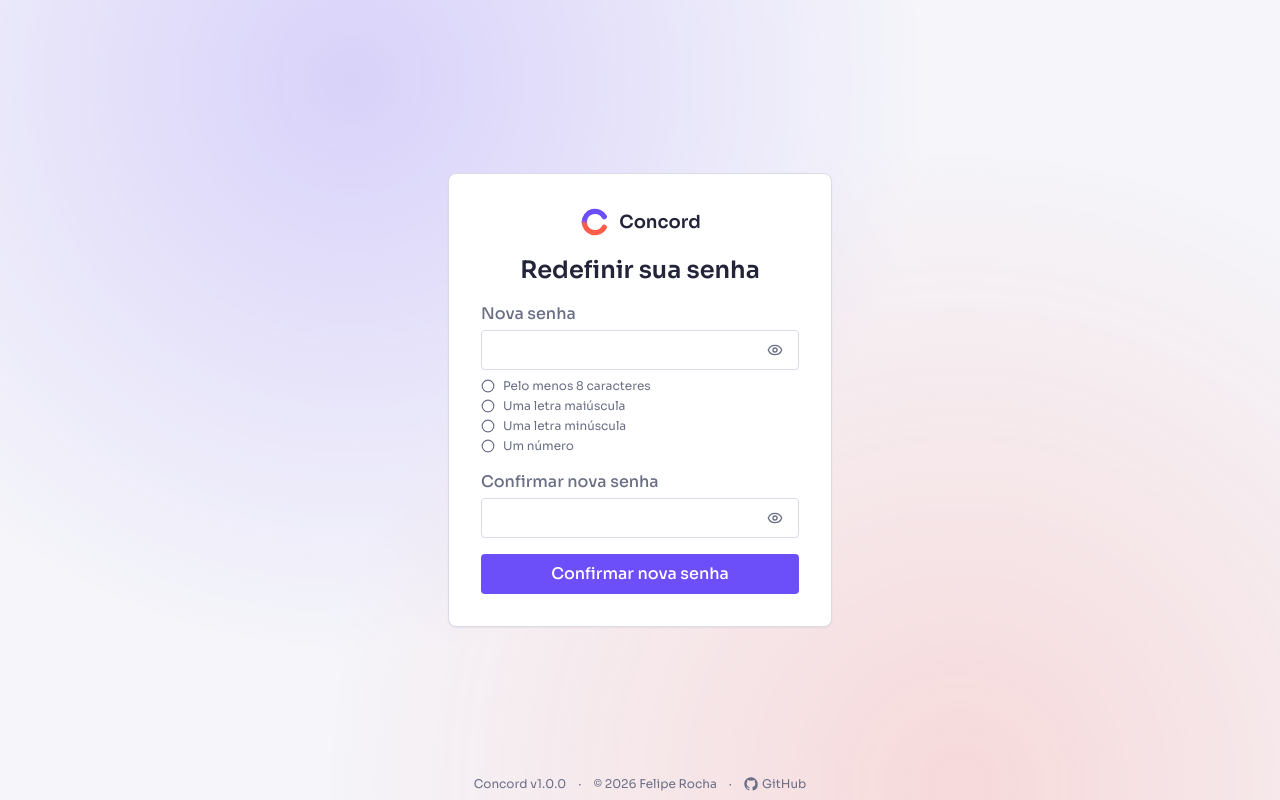
Test: ResetPasswordPage › requires matching passwords before submitting
Expected: the heading "Redefinir sua senha" is shown, [520,255,760,285]
Type "NewPassword1" into the password field labelled "Nova senha" at x=640, y=350, box [481,330,799,370]
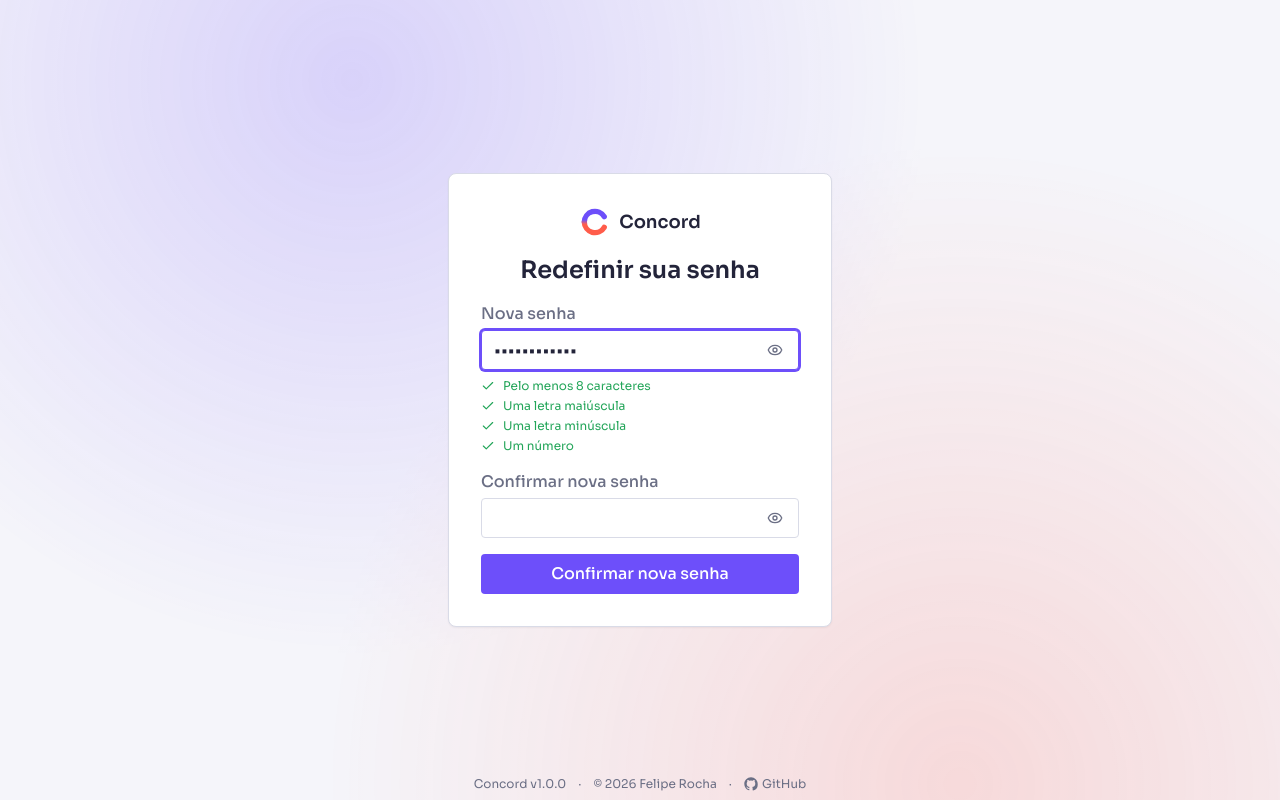
Type "Different1" into the password field labelled "Confirmar nova senha" at x=640, y=518, box [481,498,799,538]
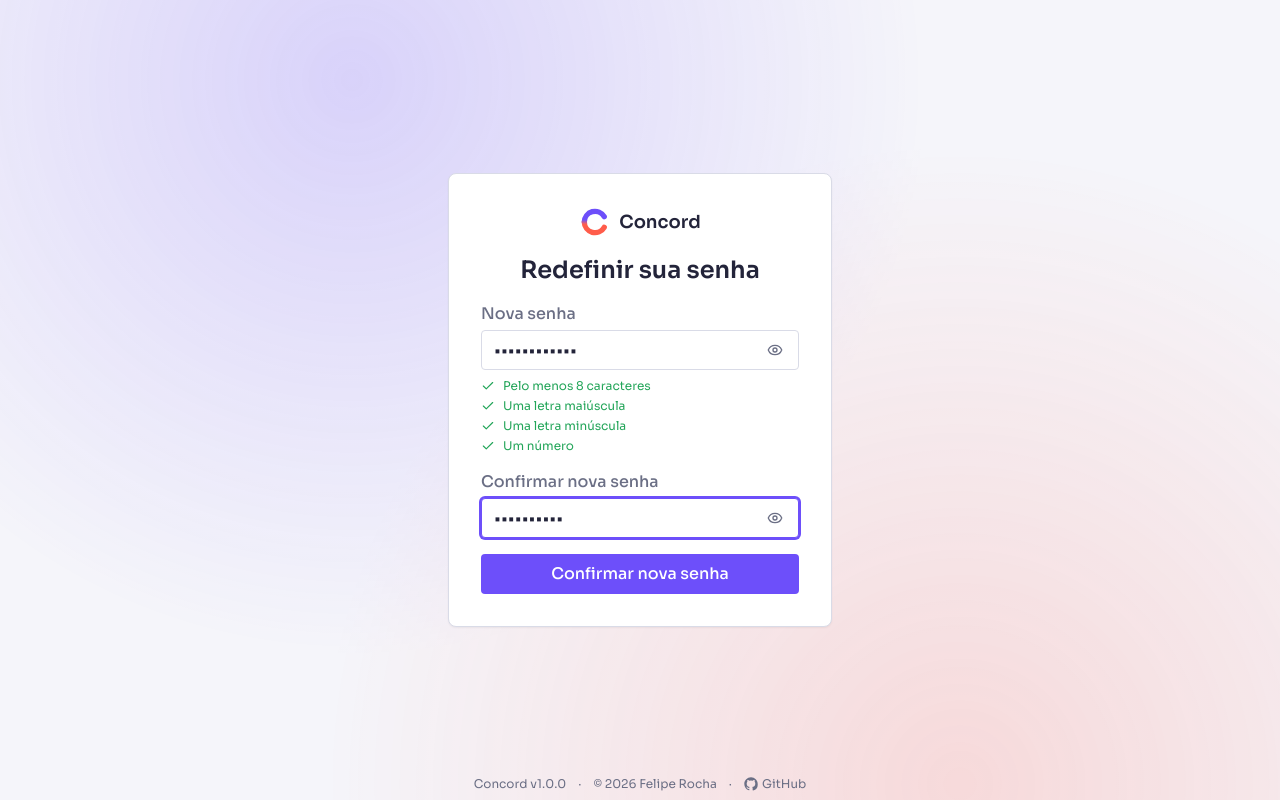
Click the button "Confirmar nova senha" at x=640, y=574, box [481,554,799,594]
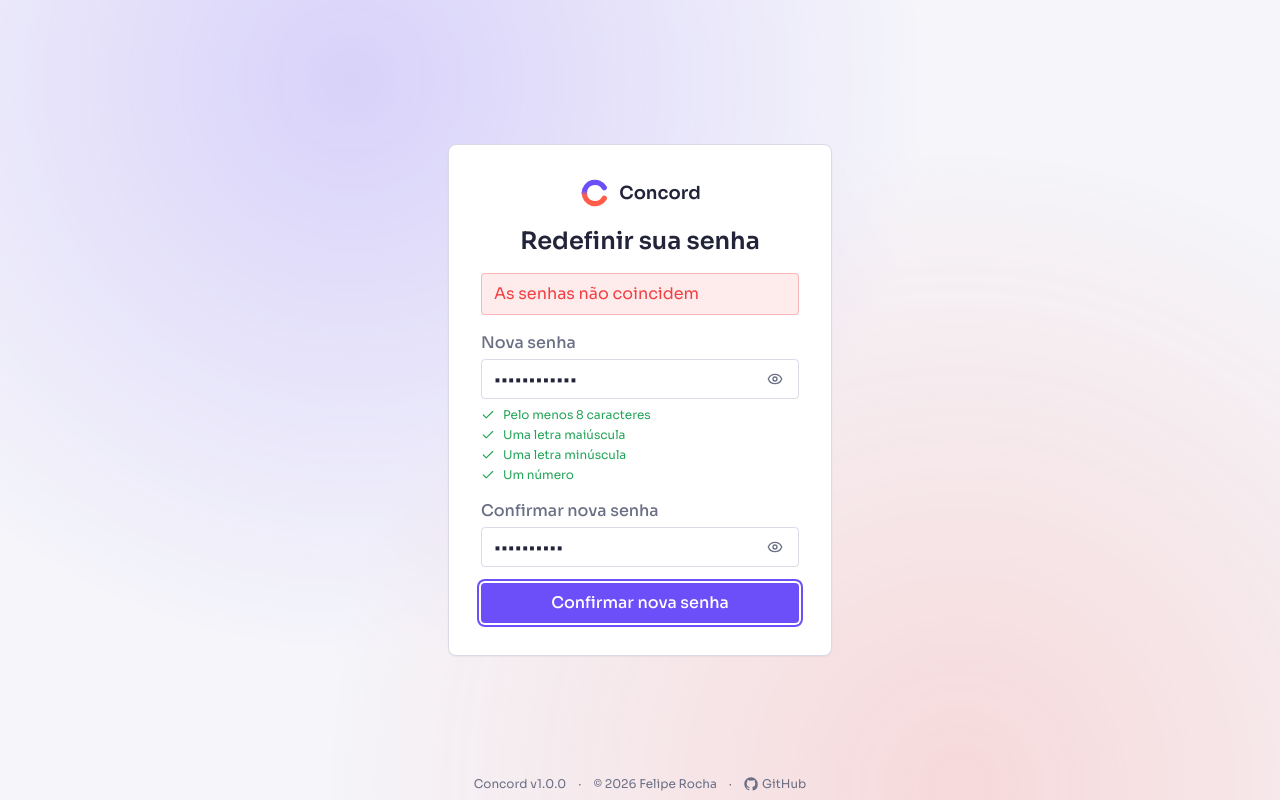
Expected: the message reads "As senhas não coincidem", [494,283,699,304]
